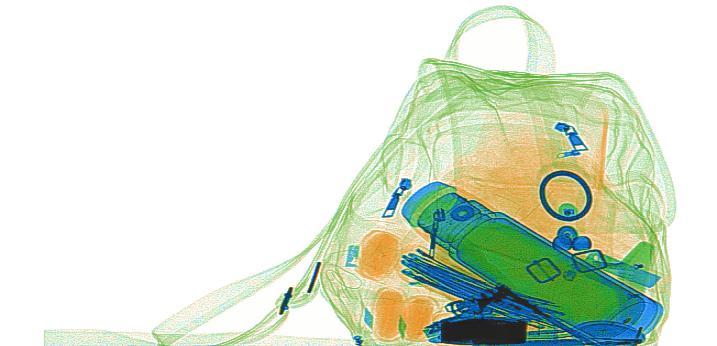knife: (583, 249, 663, 289)
